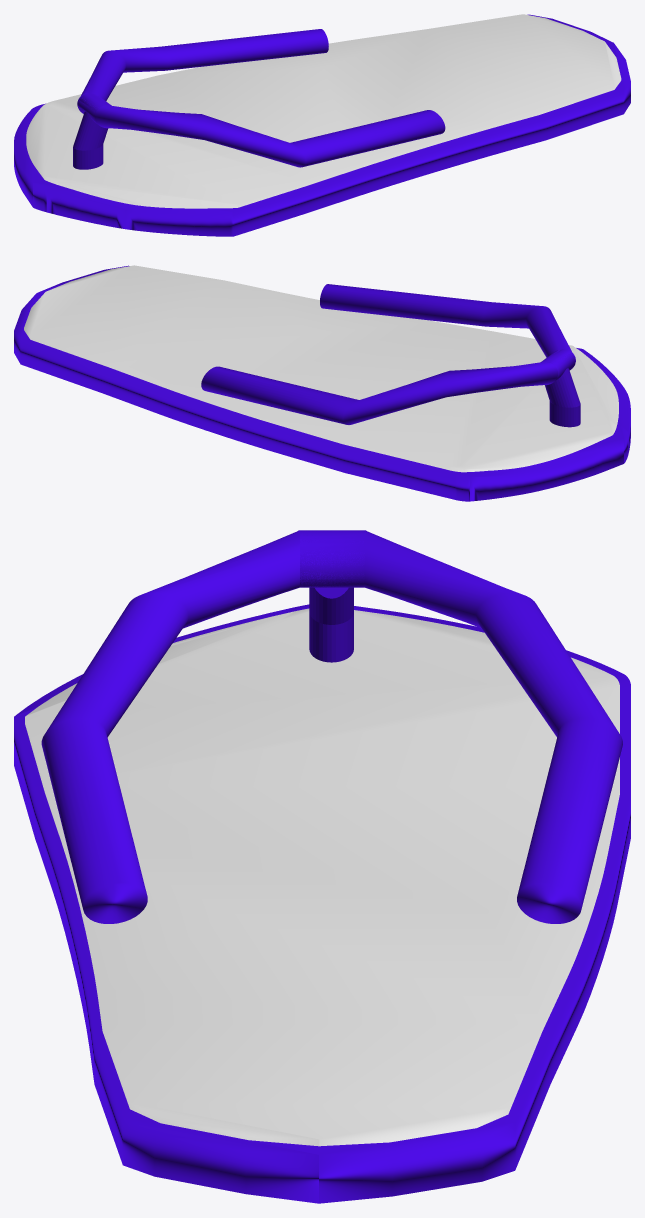
Rendered from SENDAL.fbx.
3 renders of one model, top to bottom at view 1: azimuth 30°, elevation 25°; view 2: azimuth 150°, elevation 25°; view 3: azimuth 270°, elevation 25°, orthographic. The views are drawn at different scales.
Visible parts, largest first — view 1: Cube.001; view 2: Cube.001; view 3: Cube.001.
Part boxes in pixels (x1,y1,x2,y2): Cube.001: [14, 14, 630, 236]; Cube.001: [14, 265, 630, 501]; Cube.001: [14, 530, 630, 1203].
Size of the model in its own units: 748 by 113 by 353.
